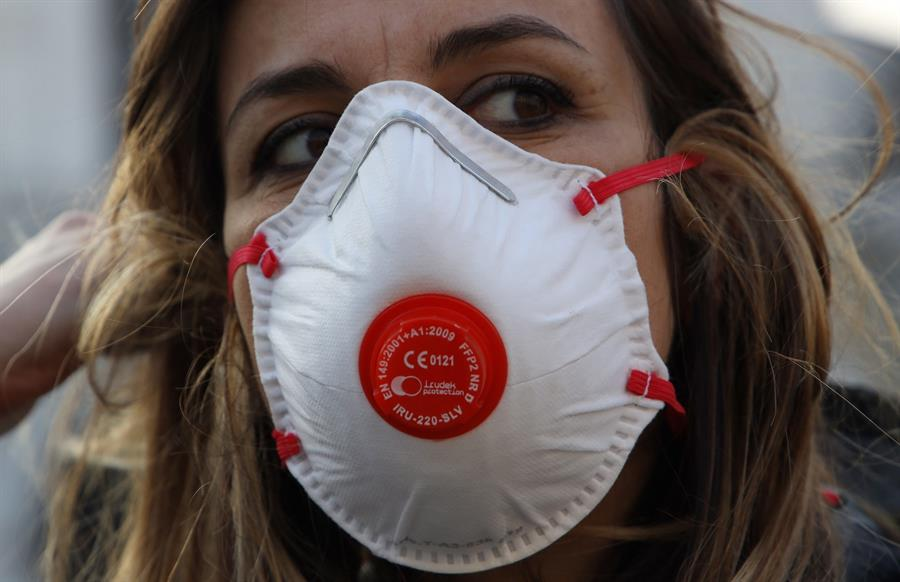with_mask: (146, 2, 790, 566)
